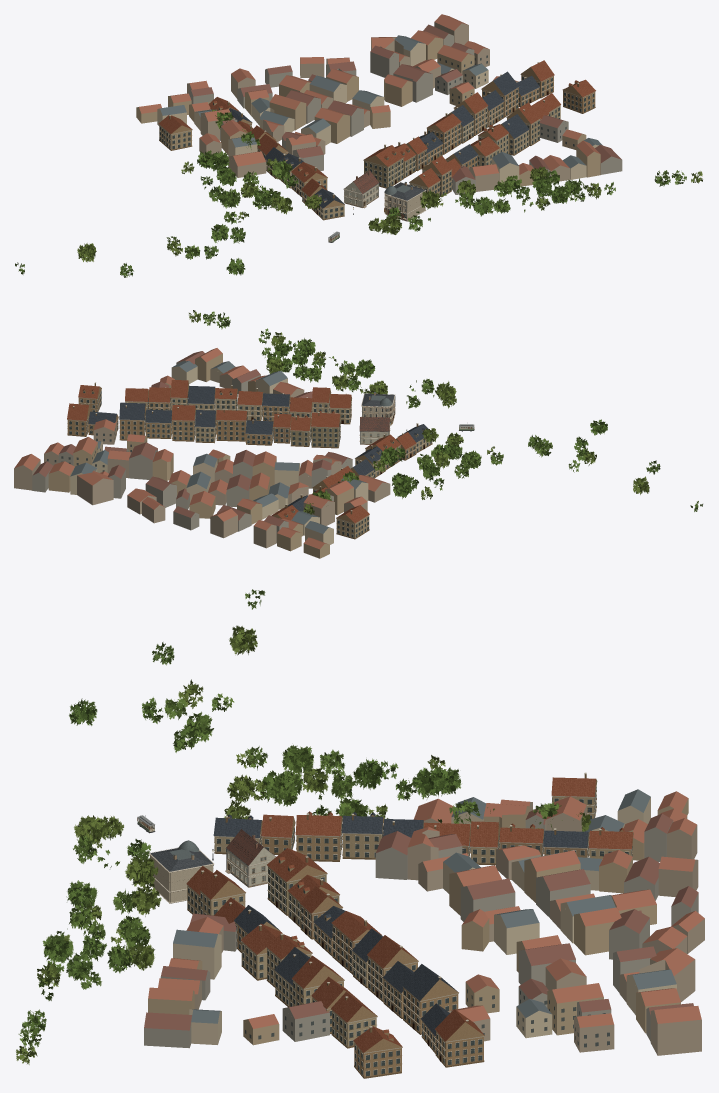
3 renders of one model, top to bottom at view 1: azimuth 30°, elevation 25°; view 2: azimuth 150°, elevation 25°; view 3: azimuth 270°, elevation 25°, orthographic. The views are drawn at different scales.
Visible parts, largest first — view 1: C_0_0; view 2: C_0_0; view 3: C_0_0.
Part boxes in pixels (bbox=[...]): C_0_0: bbox=[15, 14, 702, 277]; C_0_0: bbox=[14, 310, 702, 558]; C_0_0: bbox=[16, 589, 704, 1078].
Size of the model in its own units: 355 by 19.09 by 224.
Materials: 72 (26 with a texture image).
